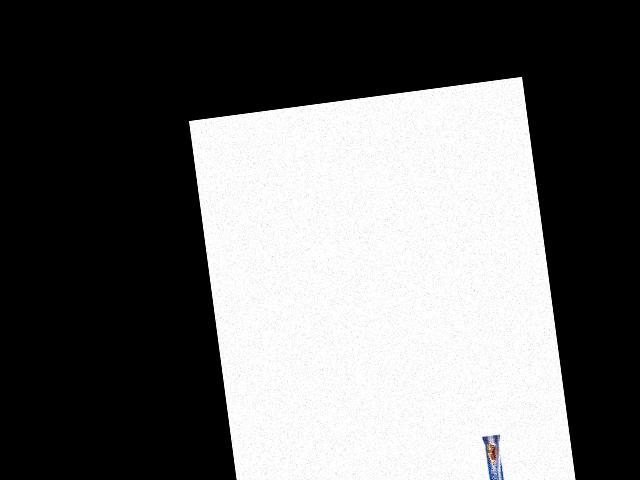chocolate: (475, 426, 508, 480)
